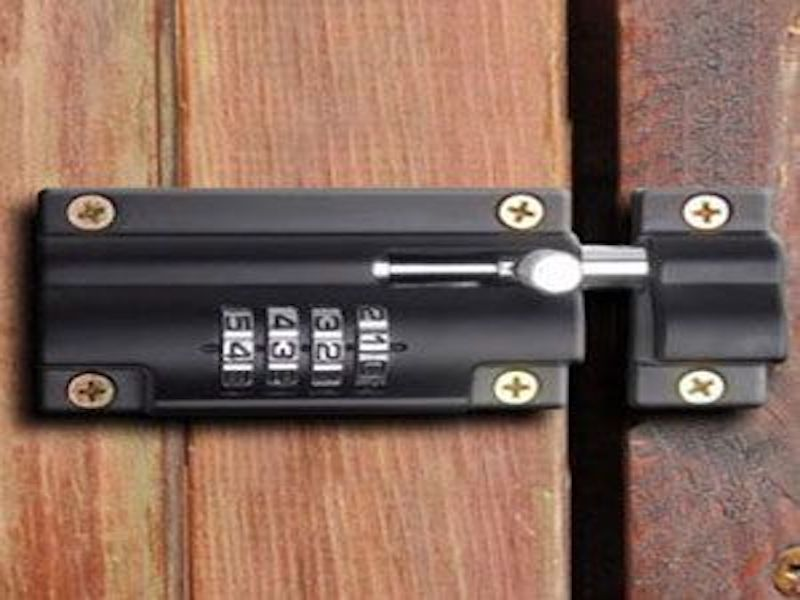screw: (64, 368, 121, 412), (488, 366, 542, 408), (679, 191, 733, 233), (64, 192, 118, 234), (495, 191, 547, 233), (674, 367, 728, 407)
